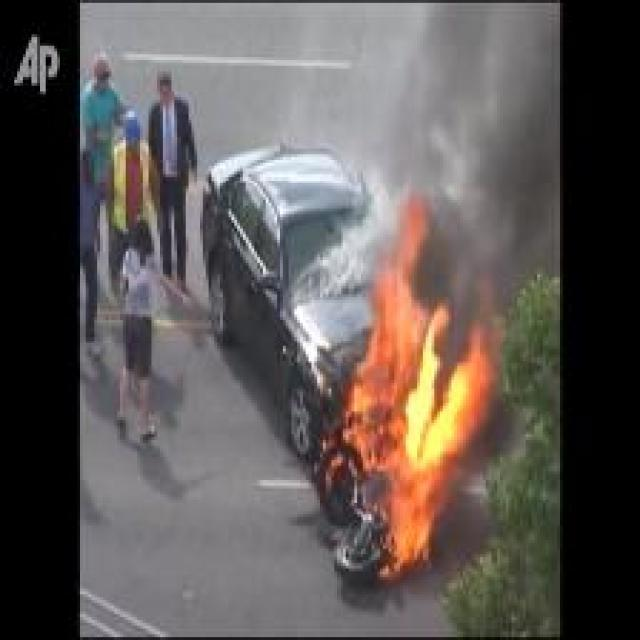Fire: (341, 197, 493, 583)
